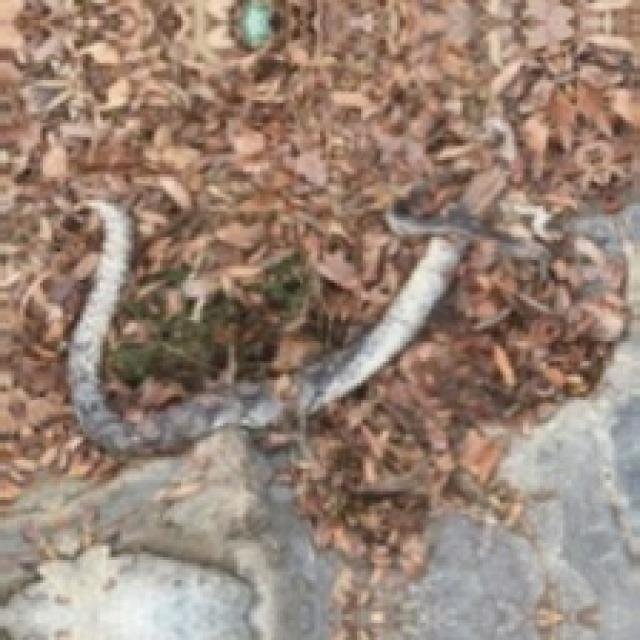reticulated python: (69, 200, 283, 451), (297, 237, 466, 417)
